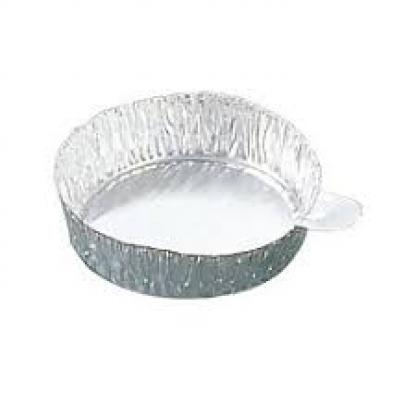METAL: (52, 89, 320, 298)
